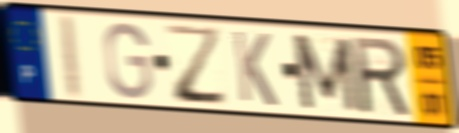G: (102, 19, 155, 101)
I: (61, 12, 85, 102)
K: (230, 27, 280, 110)
M: (289, 31, 362, 115)
R: (349, 34, 414, 119)
Z: (162, 22, 230, 108)
